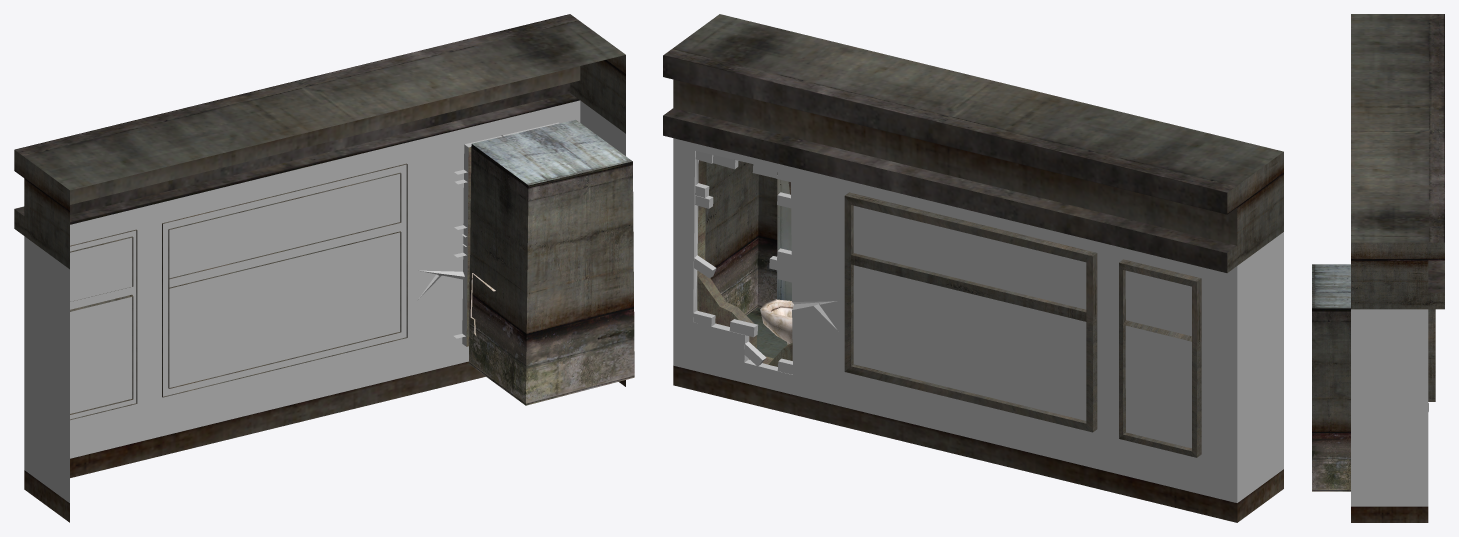
File: Store_front_16_D.fbx
The picture shows the model from 3 angles, left to right: view 1: azimuth 30°, elevation 25°; view 2: azimuth 150°, elevation 25°; view 3: azimuth 270°, elevation 25°; orthographic projection. The views are drawn at different scales.
Parts seen in each view (by area): view 1: Store_front_16_D; view 2: Store_front_16_D; view 3: Store_front_16_D.
Part boxes in pixels (left/top/right/bottom): Store_front_16_D: left=14, top=14, right=634, bottom=522; Store_front_16_D: left=663, top=14, right=1283, bottom=522; Store_front_16_D: left=1312, top=14, right=1444, bottom=522.
Bounding box in the file's own units: 700 × 400 × 172.
